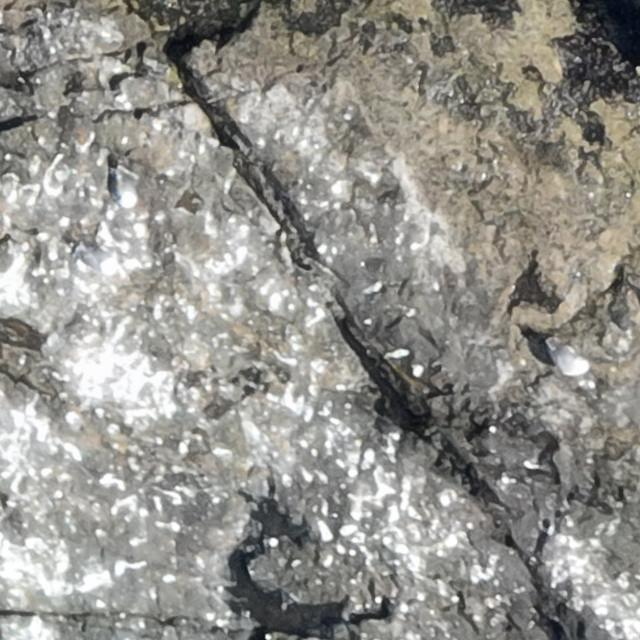umineko: (546, 338, 594, 373)
